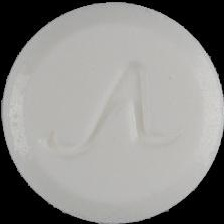33261-352: (0, 0, 224, 224)
